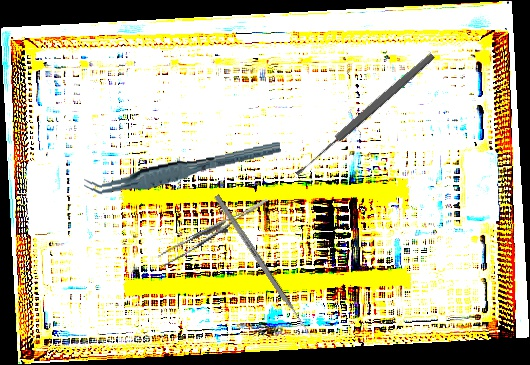Pusher: (213, 194, 314, 338)
Surgical Spoon: (292, 50, 437, 179)
Tissue Forceps: (81, 140, 284, 197), (152, 198, 276, 268)
